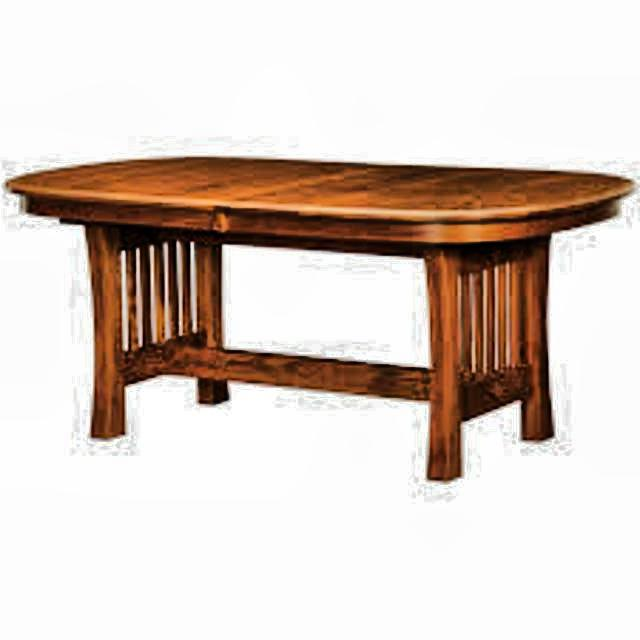mesa: (2, 145, 634, 502)
